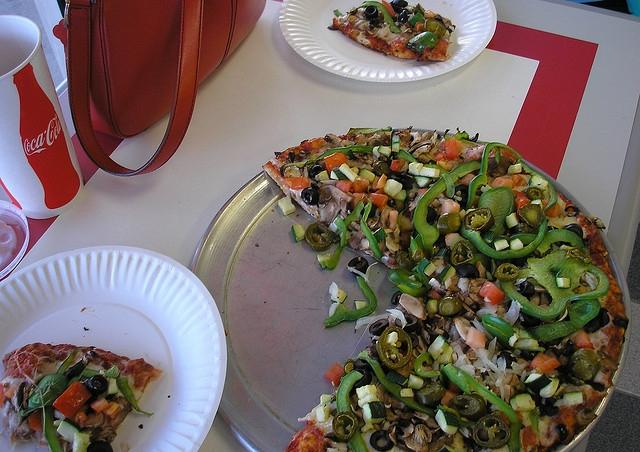bell pepper: (460, 160, 558, 260), (356, 357, 476, 427), (500, 250, 610, 320), (414, 160, 482, 261), (453, 364, 521, 452), (466, 142, 523, 212), (526, 298, 600, 344), (280, 145, 375, 177), (336, 370, 369, 452), (325, 276, 377, 327), (476, 186, 516, 236), (116, 375, 154, 418), (534, 229, 585, 258), (357, 1, 401, 34), (28, 375, 68, 410), (482, 313, 514, 349), (423, 164, 455, 198), (442, 363, 472, 396), (44, 405, 64, 452), (360, 220, 382, 258), (407, 32, 438, 53), (388, 269, 422, 288), (318, 245, 342, 270), (411, 265, 432, 290), (396, 284, 428, 296), (335, 217, 347, 248), (394, 149, 420, 163), (347, 126, 392, 134), (103, 364, 120, 378)
